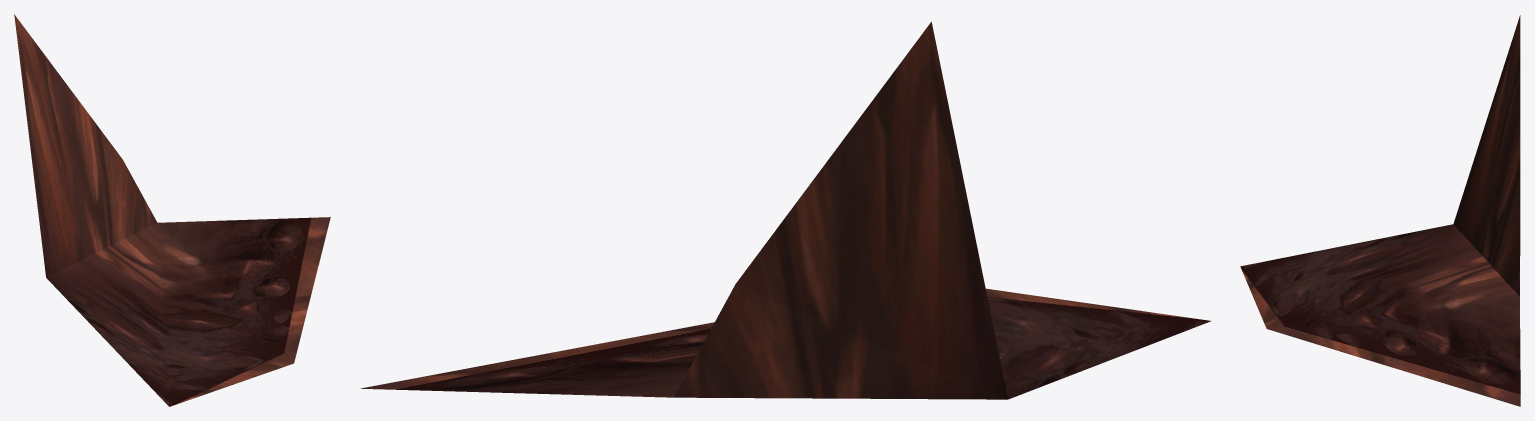
The model's file is lava_trim_endcap.fbx.
3 views of the same model, side by side, from view 1: azimuth 30°, elevation 25°; view 2: azimuth 150°, elevation 25°; view 3: azimuth 270°, elevation 25° (orthographic). The views are drawn at different scales.
Parts seen in each view (by area): view 1: obj0.147; view 2: obj0.147; view 3: obj0.147.
Part boxes in pixels (bbox=[...]): obj0.147: bbox=[14, 14, 330, 406]; obj0.147: bbox=[361, 22, 1210, 399]; obj0.147: bbox=[1240, 15, 1520, 406].
Bounding box in the file's own units: 1.38 × 1.15 × 1.15.
